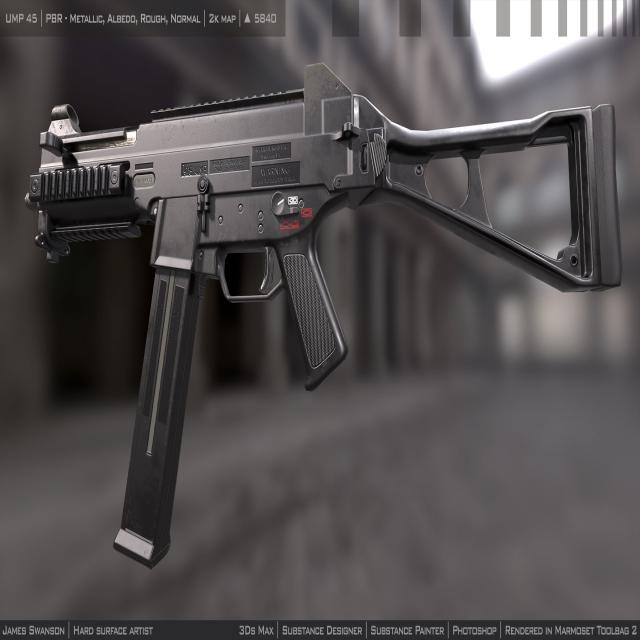SMG: (26, 63, 624, 571)
